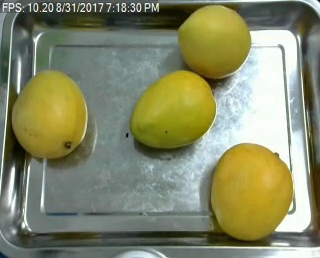Mango: (208, 142, 292, 240), (11, 68, 89, 159), (130, 68, 216, 149), (175, 3, 251, 77)
